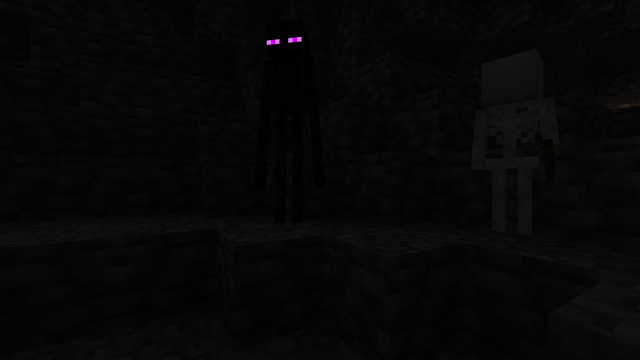endermens: (263, 6, 316, 227)
squelettes: (472, 46, 555, 239)
